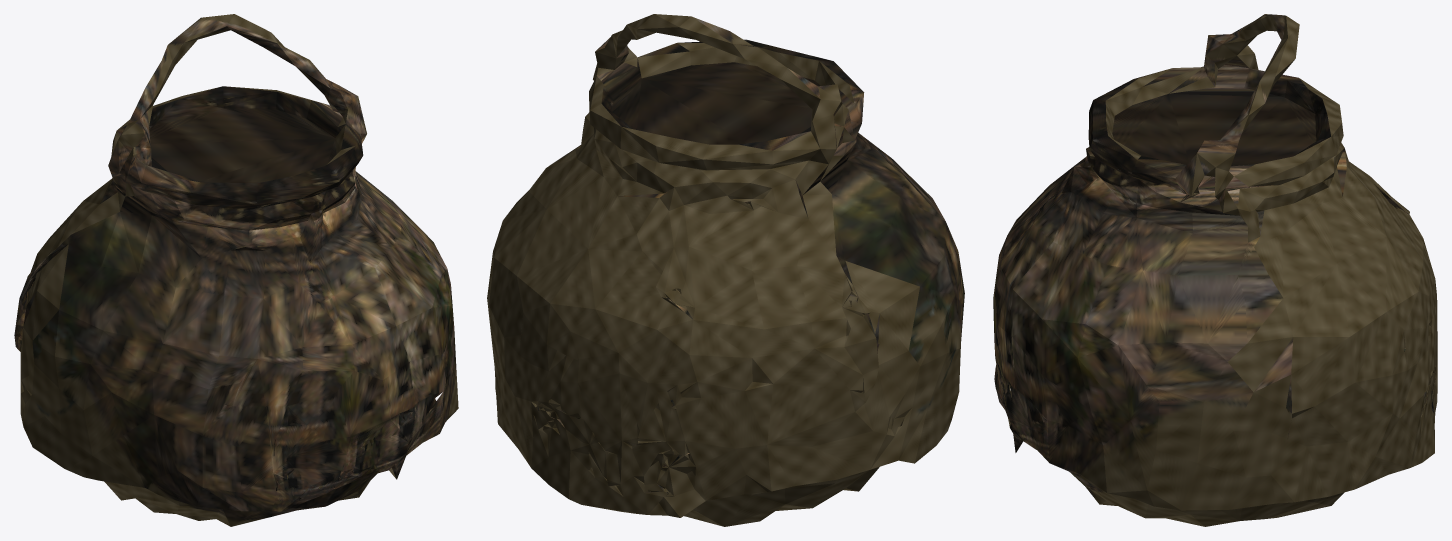
The model's file is fish_basket_reduced.glb.
The picture shows the model from 3 angles, left to right: view 1: azimuth 30°, elevation 25°; view 2: azimuth 150°, elevation 25°; view 3: azimuth 270°, elevation 25°; orthographic projection. The views are drawn at different scales.
Parts seen in each view (by area): view 1: CoveredSurface; view 2: CoveredSurface; view 3: CoveredSurface.
Part boxes in pixels (x1,y1,x2,y2): CoveredSurface: (14,14,458,526); CoveredSurface: (487,14,964,526); CoveredSurface: (993,14,1437,526).
Bounding box in the file's own units: 1.8 × 1.99 × 1.73.
1 material, 1 textured.
